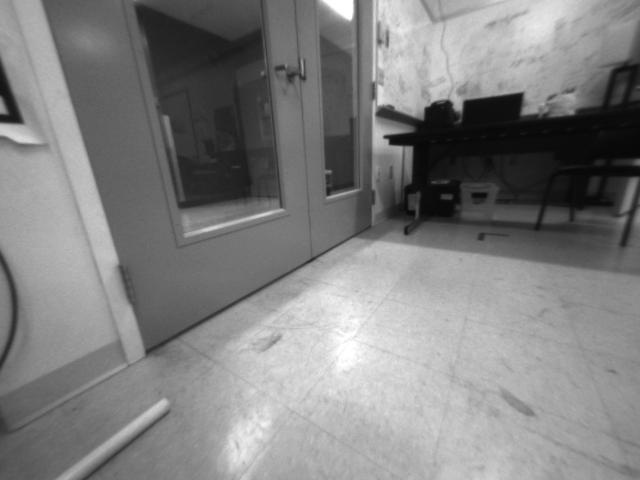door_handle: (269, 59, 302, 87)
